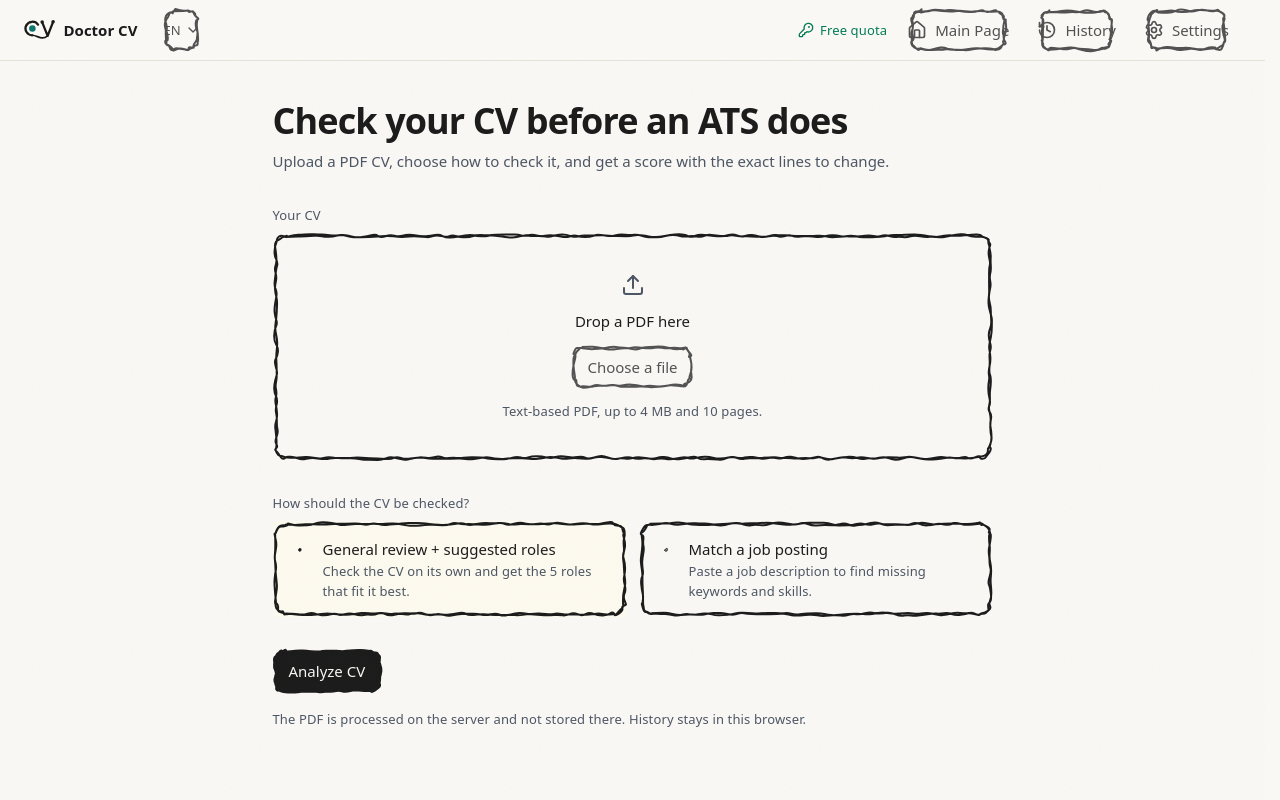
Test case: Dashboard › asks for a file before sending anything
The image size is (1280, 800).
Click the button "Analyze CV".
click(327, 671)  # box [272,649,381,693]
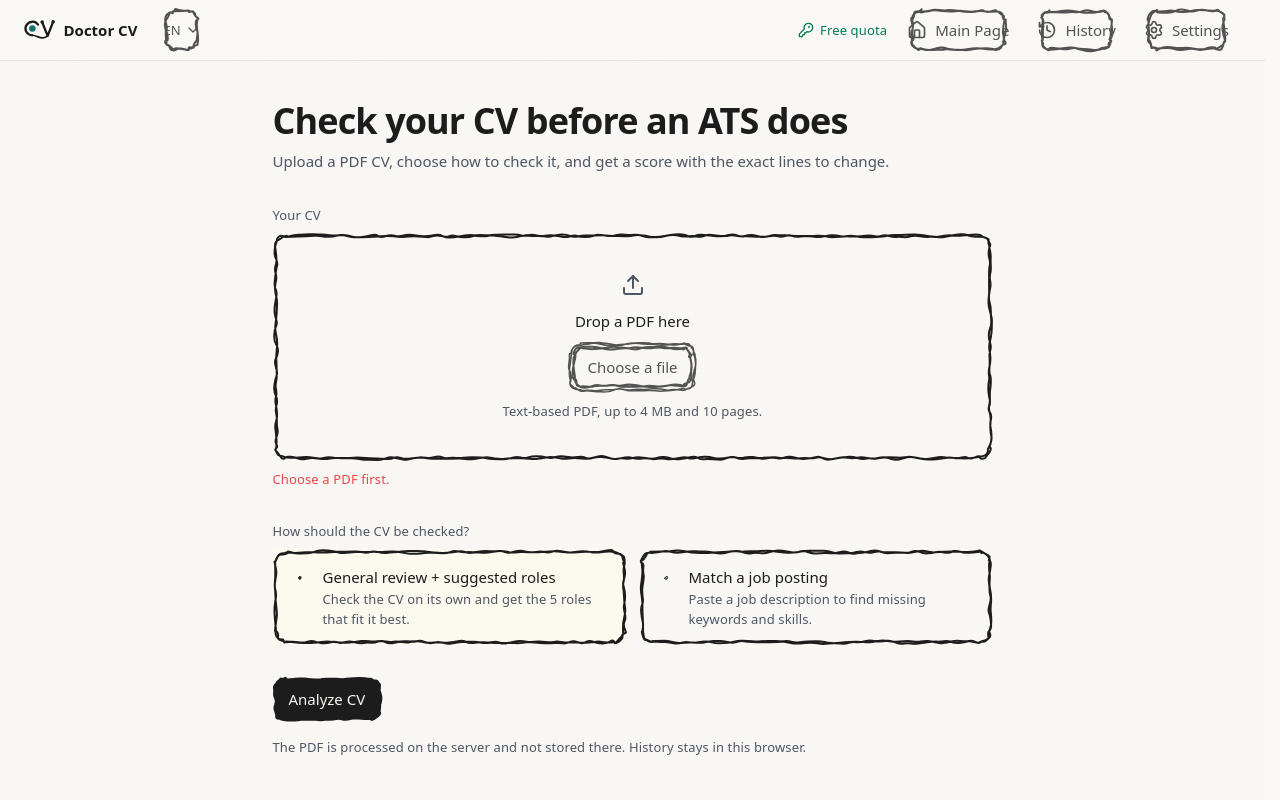
Expected: the text "Choose a PDF first." is shown, [272,470,390,488]
